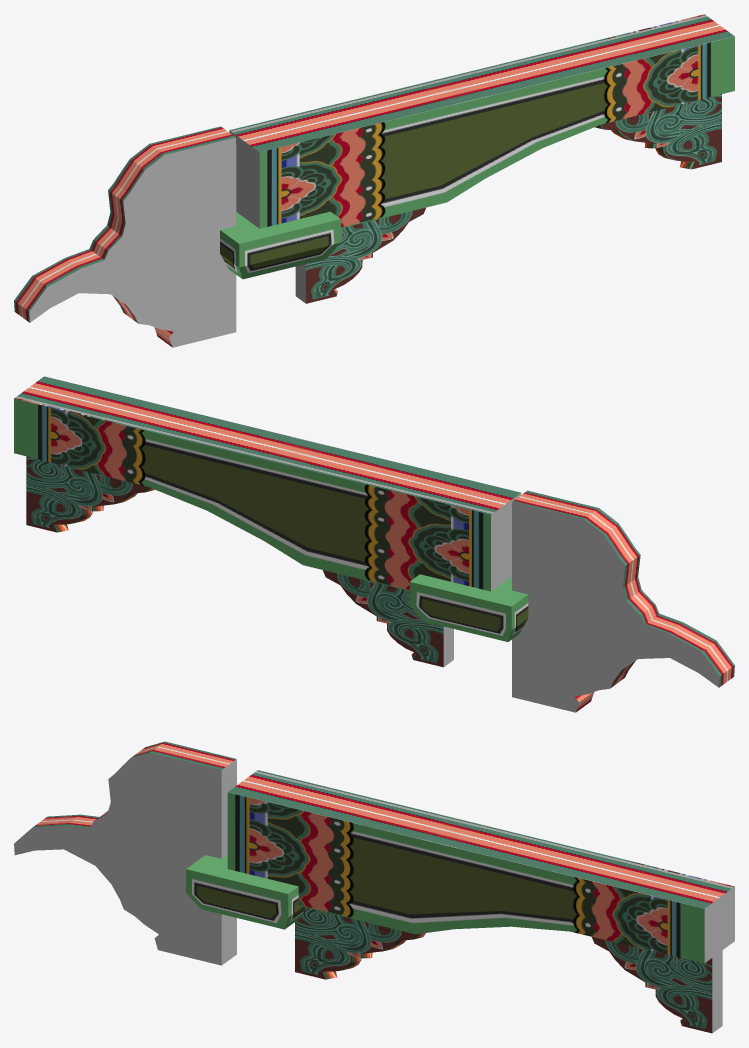
The model's file is SM_R_Beam_2.fbx.
3 views of the same model, one above another, from view 1: azimuth 30°, elevation 25°; view 2: azimuth 150°, elevation 25°; view 3: azimuth 330°, elevation 25° (orthographic).
Visible parts, largest first — view 1: SM_R_Beam_2_LOD0; view 2: SM_R_Beam_2_LOD0; view 3: SM_R_Beam_2_LOD0.
Part boxes in pixels (left/top/right/bottom): SM_R_Beam_2_LOD0: left=14, top=14, right=734, bottom=347; SM_R_Beam_2_LOD0: left=14, top=376, right=734, bottom=712; SM_R_Beam_2_LOD0: left=14, top=741, right=734, bottom=1033.
Size of the model in its own units: 265 by 33.59 by 70.75.
